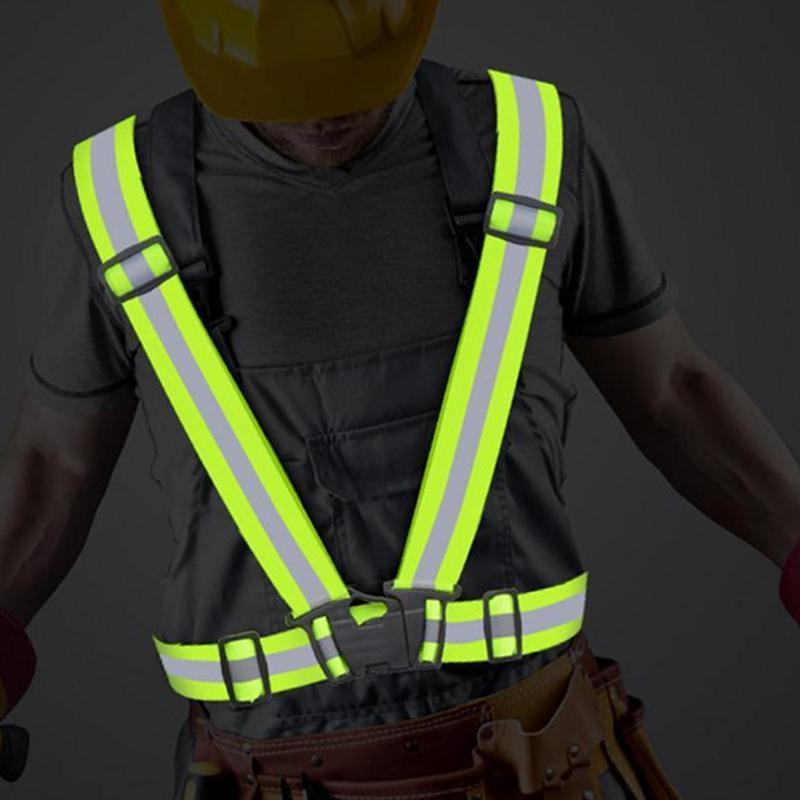Vest: (54, 112, 586, 652)
